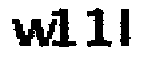1: (84, 6, 112, 49), (52, 9, 79, 48)
l: (120, 6, 136, 50)
w: (7, 16, 57, 48)
